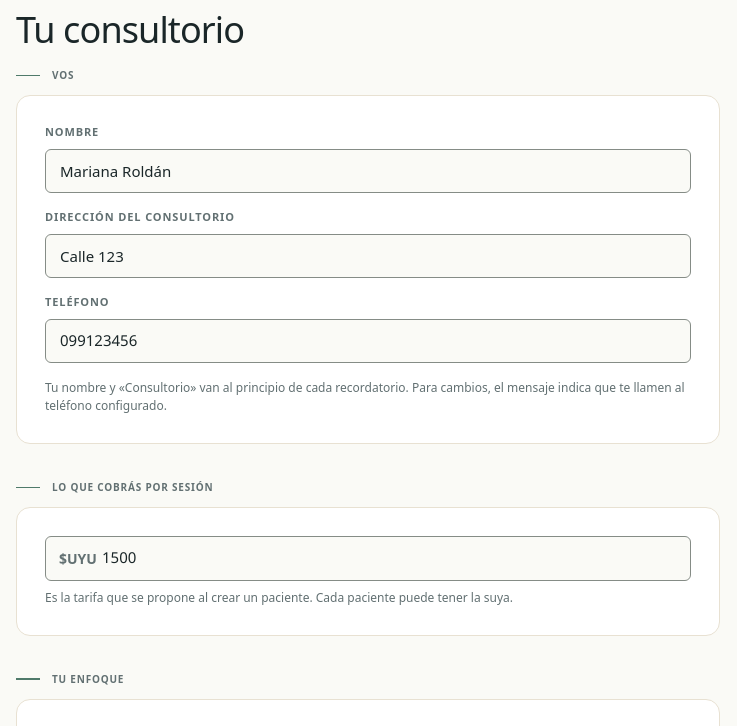
it: B: los cambios no se pierden › un campo inválido no frena a los válidos del mismo lote
The width and height of the screenshot is (737, 726).
Clear the number field named "Lo que cobrás por sesión" at (368, 558), box left=46, top=537, right=690, bottom=580
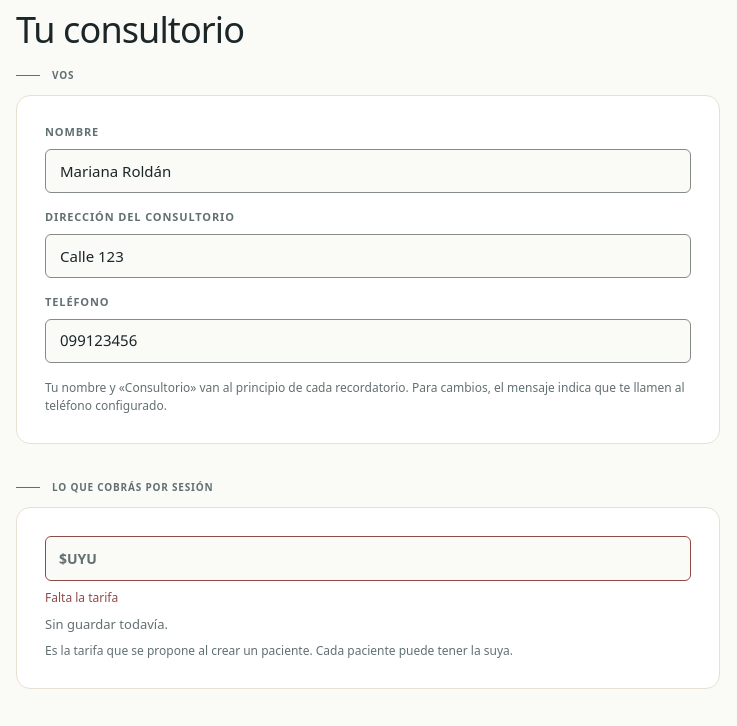
Replace the text in the field labelled "Dirección del consultorio" with "Otra 456" at (368, 256), box left=46, top=234, right=690, bottom=277
Wait 1600 ms
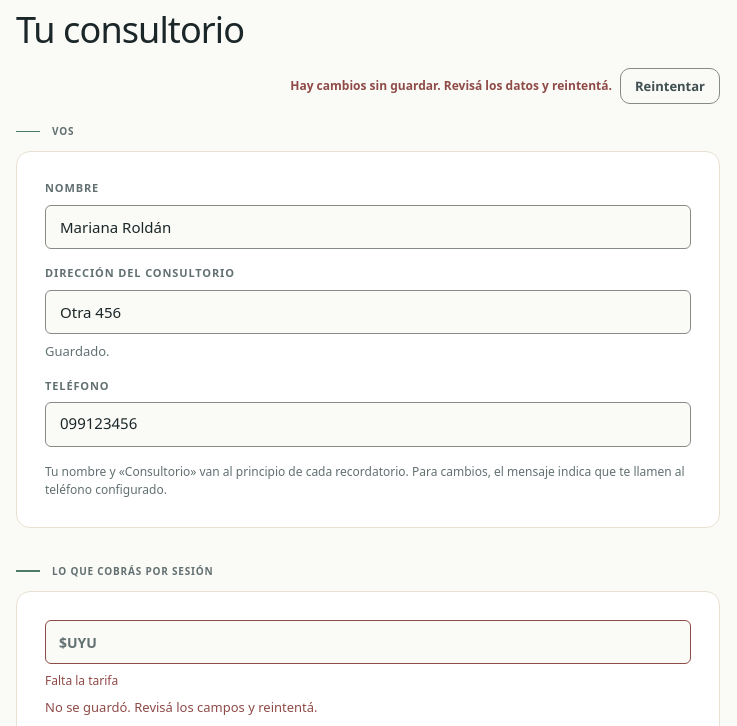
expect the text "Hay cambios sin guardar. Revisá los datos y reintentá." is shown: met, box left=290, top=77, right=612, bottom=95
